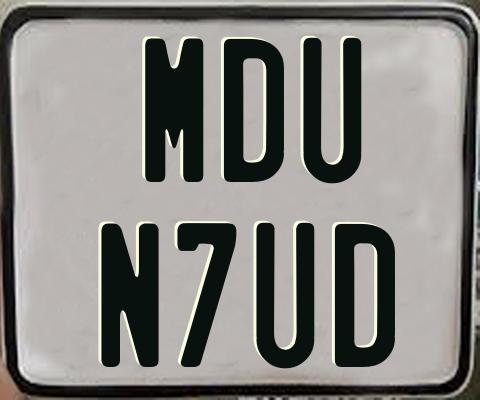7: (176, 223, 241, 372)
D: (223, 37, 287, 184), (335, 223, 399, 369)
M: (144, 37, 202, 185)
N: (101, 220, 164, 368)
U: (253, 221, 312, 373), (303, 36, 363, 184)
